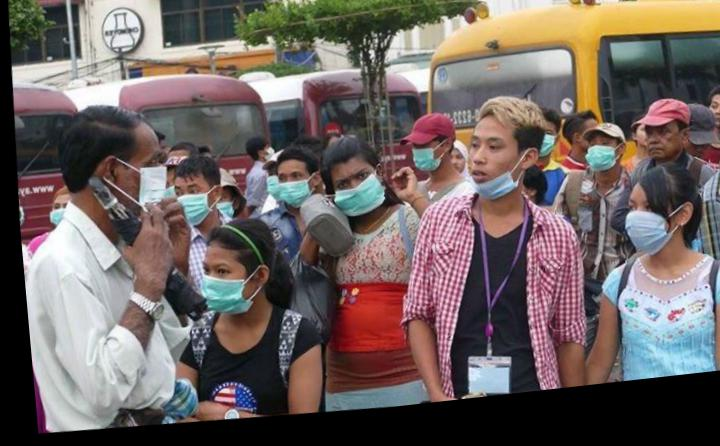NONE: (641, 139, 679, 178), (703, 110, 720, 146), (442, 160, 462, 184)
OK: (86, 139, 177, 231), (186, 254, 258, 327), (613, 206, 682, 277), (329, 168, 386, 226), (162, 179, 215, 234), (268, 171, 314, 217), (578, 147, 621, 190), (403, 145, 443, 185), (523, 134, 555, 172), (199, 197, 232, 231), (46, 197, 75, 231), (253, 149, 273, 170)
WRONG: (461, 137, 524, 209)
